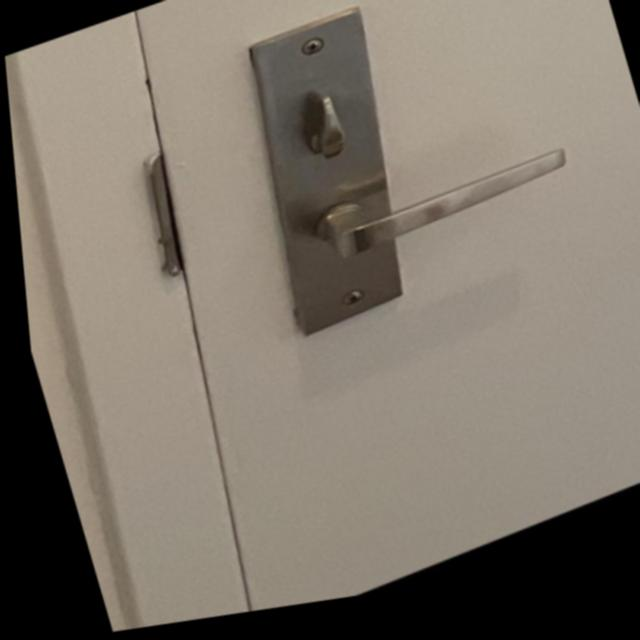door_handle: (268, 123, 594, 310)
